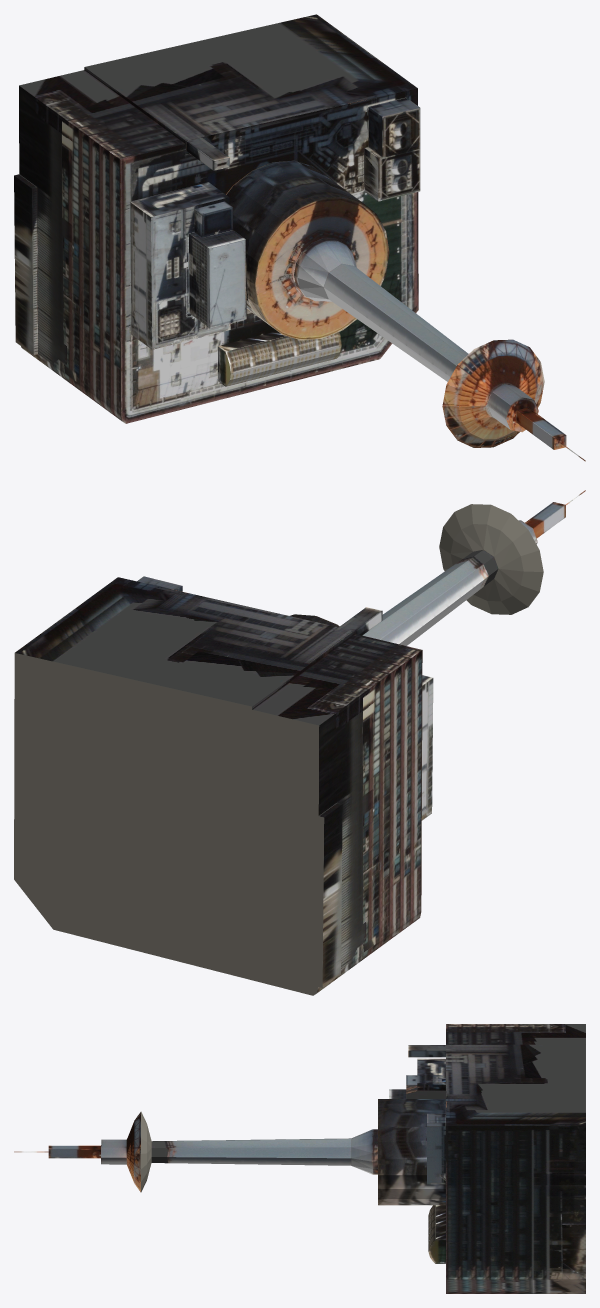
The model's file is KyotoTower.fbx.
3 renders of one model, top to bottom at view 1: azimuth 30°, elevation 25°; view 2: azimuth 150°, elevation 25°; view 3: azimuth 270°, elevation 25°, orthographic. The views are drawn at different scales.
Visible parts, largest first — view 1: KyotoTower; view 2: KyotoTower; view 3: KyotoTower.
Boxes of the visible parts, x1,y1,x2,y2 form: KyotoTower: (14, 14, 585, 461); KyotoTower: (14, 490, 585, 995); KyotoTower: (14, 1024, 585, 1293).
Bounding box in the file's own units: 55.31 × 131 × 46.74.
Materials: 2 (2 with a texture image).
